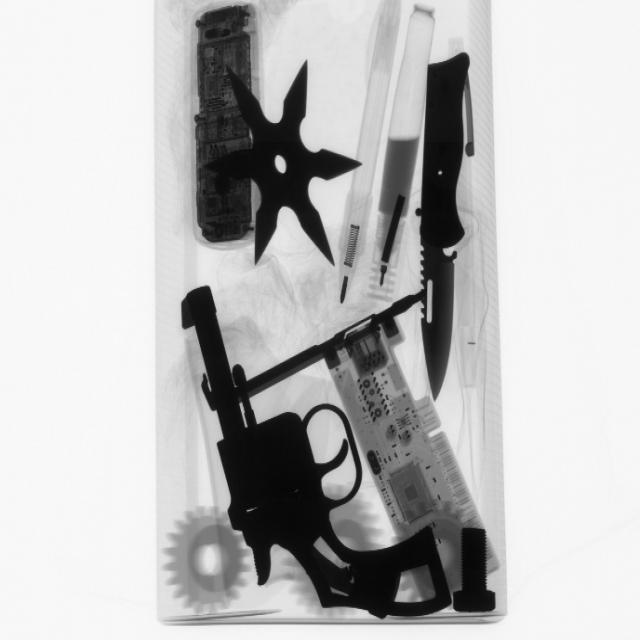GUN: (180, 278, 459, 630)
KNIFE: (406, 53, 482, 395)
SHURIKEN: (210, 55, 361, 269)
